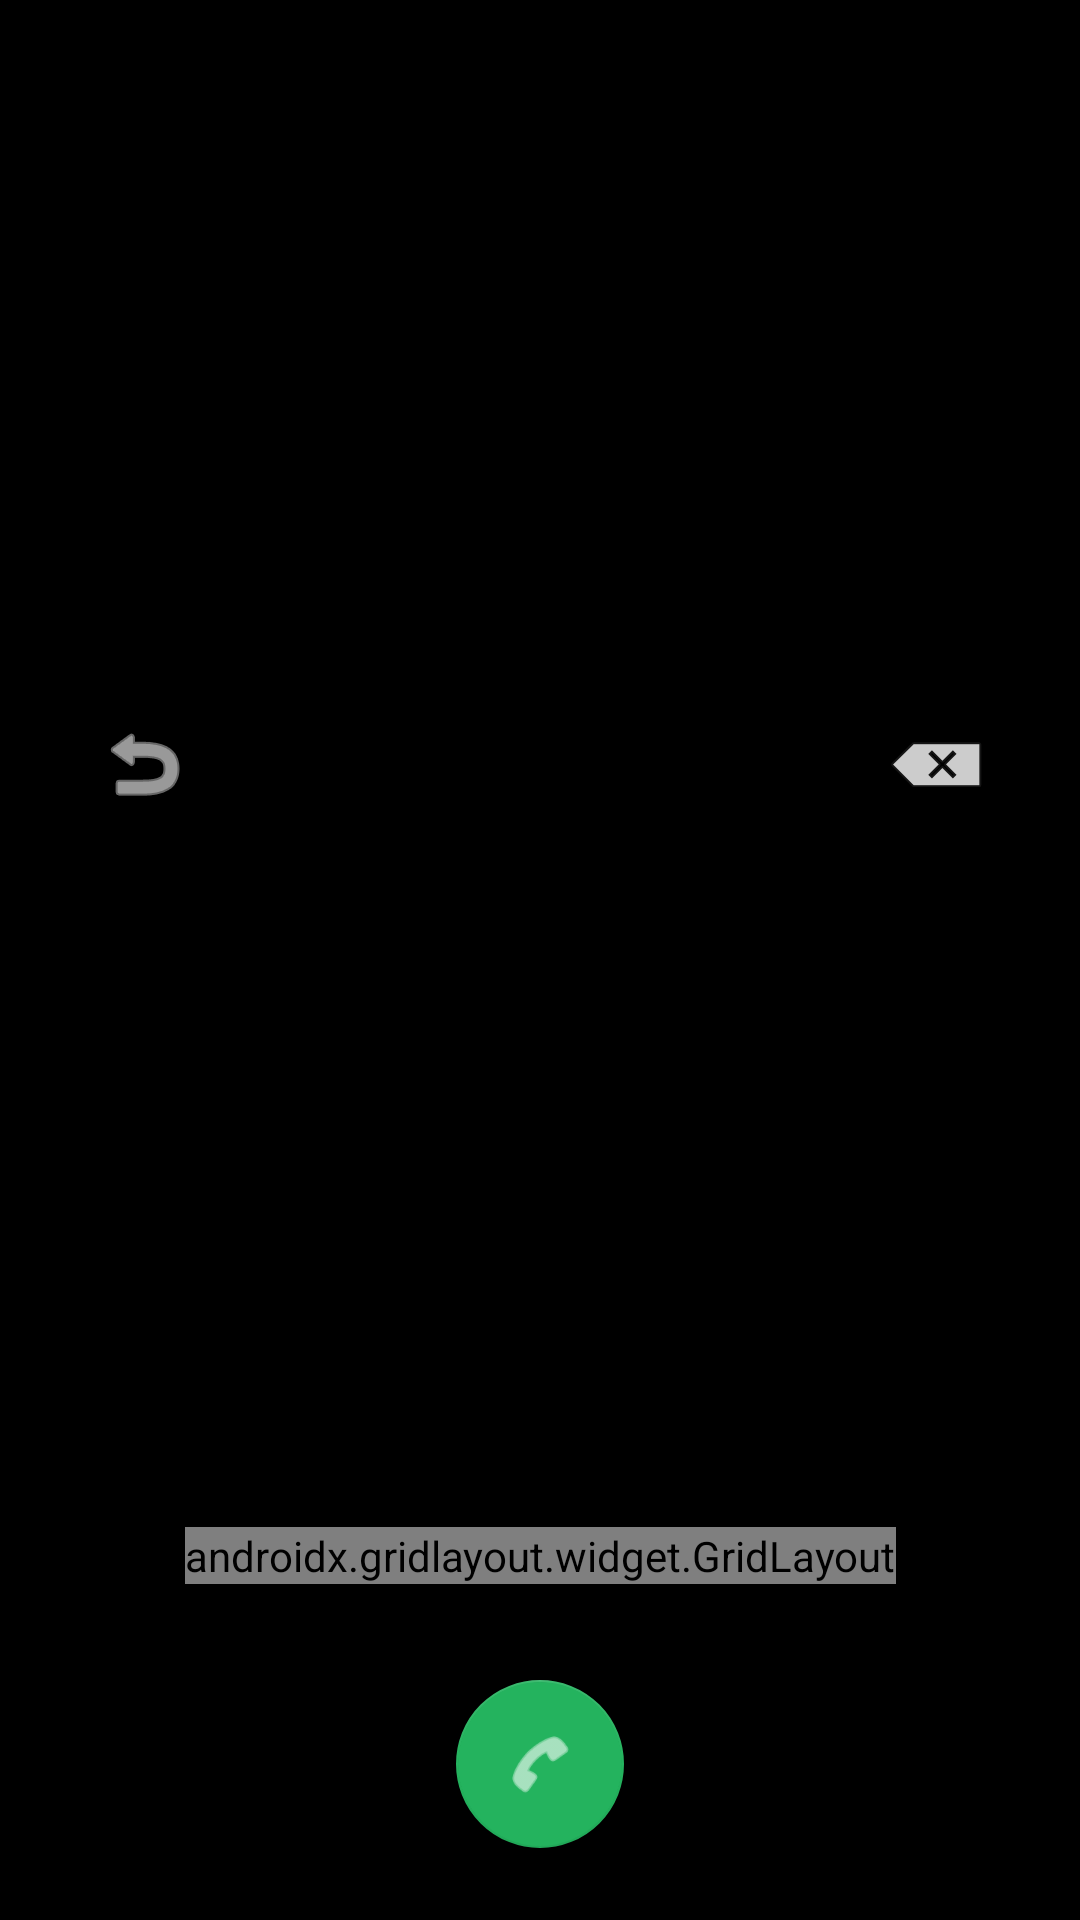

Icon bounding boxes for this 1080x1920 phone screenshot, format (x1, y1, x2, y2):
call: (456, 1680, 624, 1848)
뒤로 가기: (111, 733, 180, 796)
지우기: (893, 744, 980, 786)
